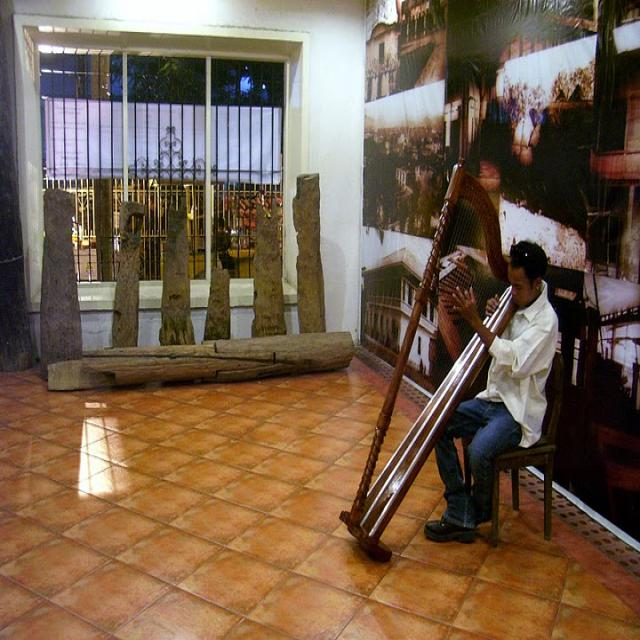harp: (339, 165, 542, 566)
